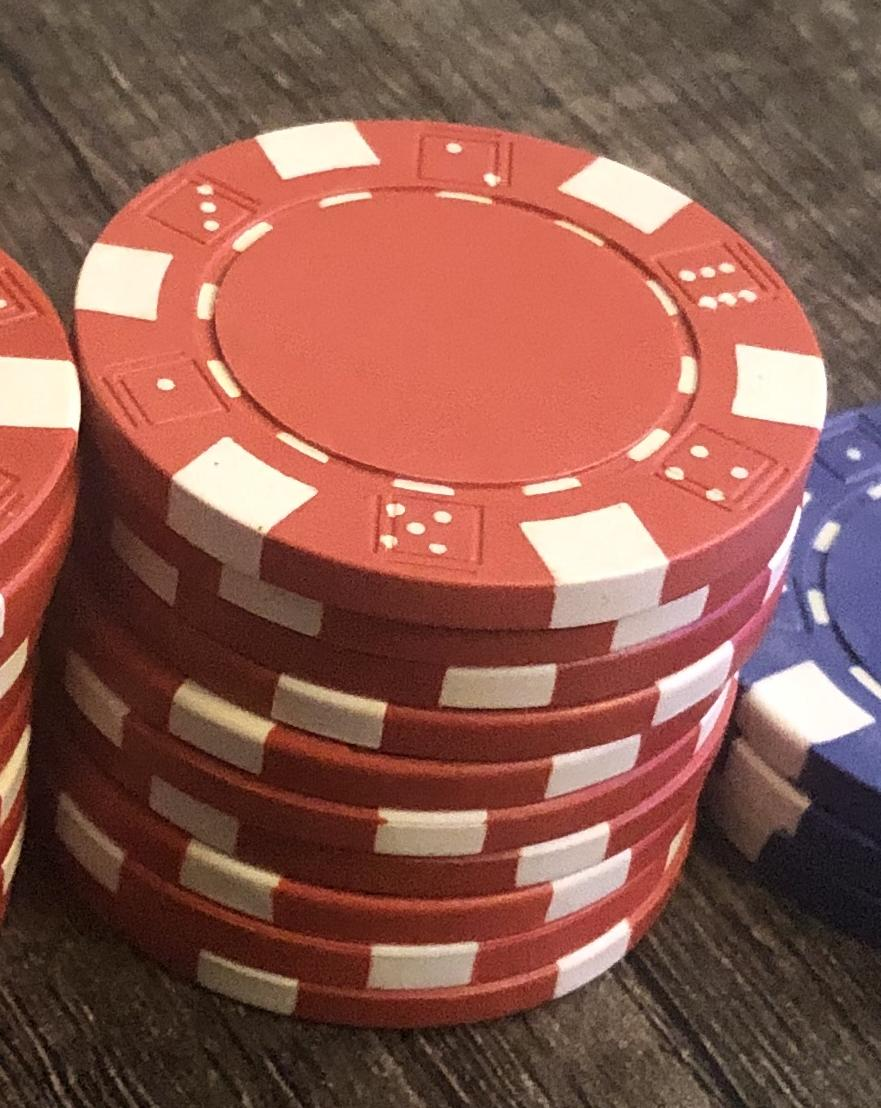Chip: (1, 1, 881, 1108)
